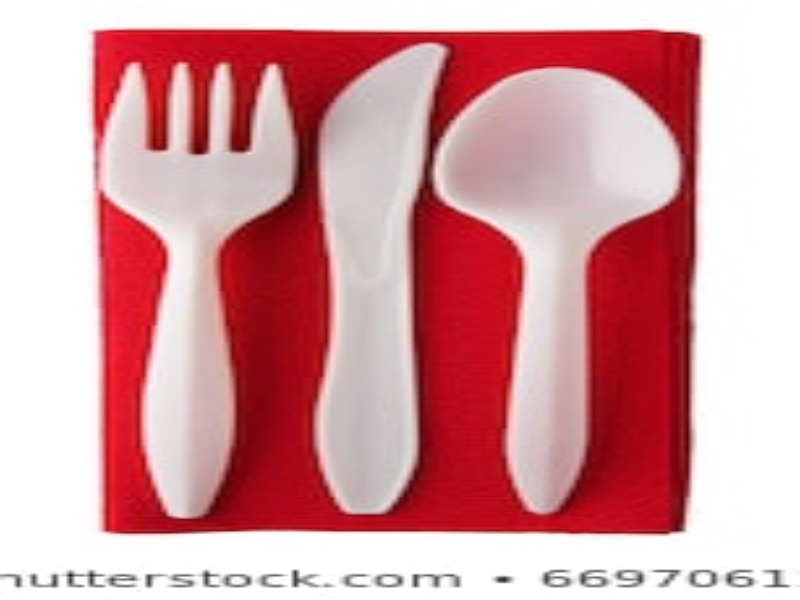plastic-silverware: (430, 62, 686, 521), (99, 57, 306, 525), (305, 40, 456, 517)
